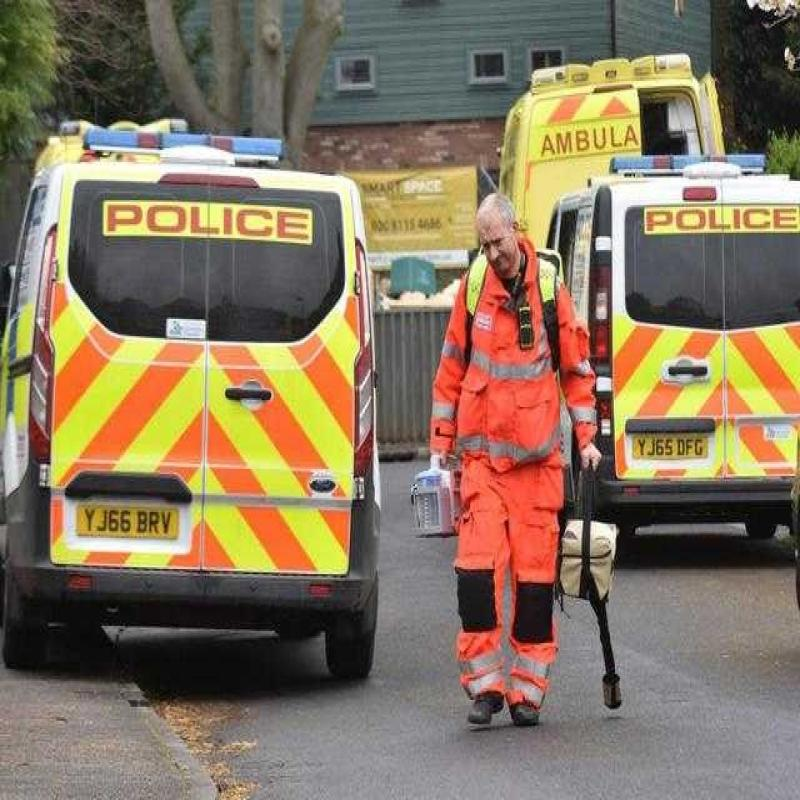AmbulanceSiren: (81, 121, 304, 169), (610, 138, 778, 183)
